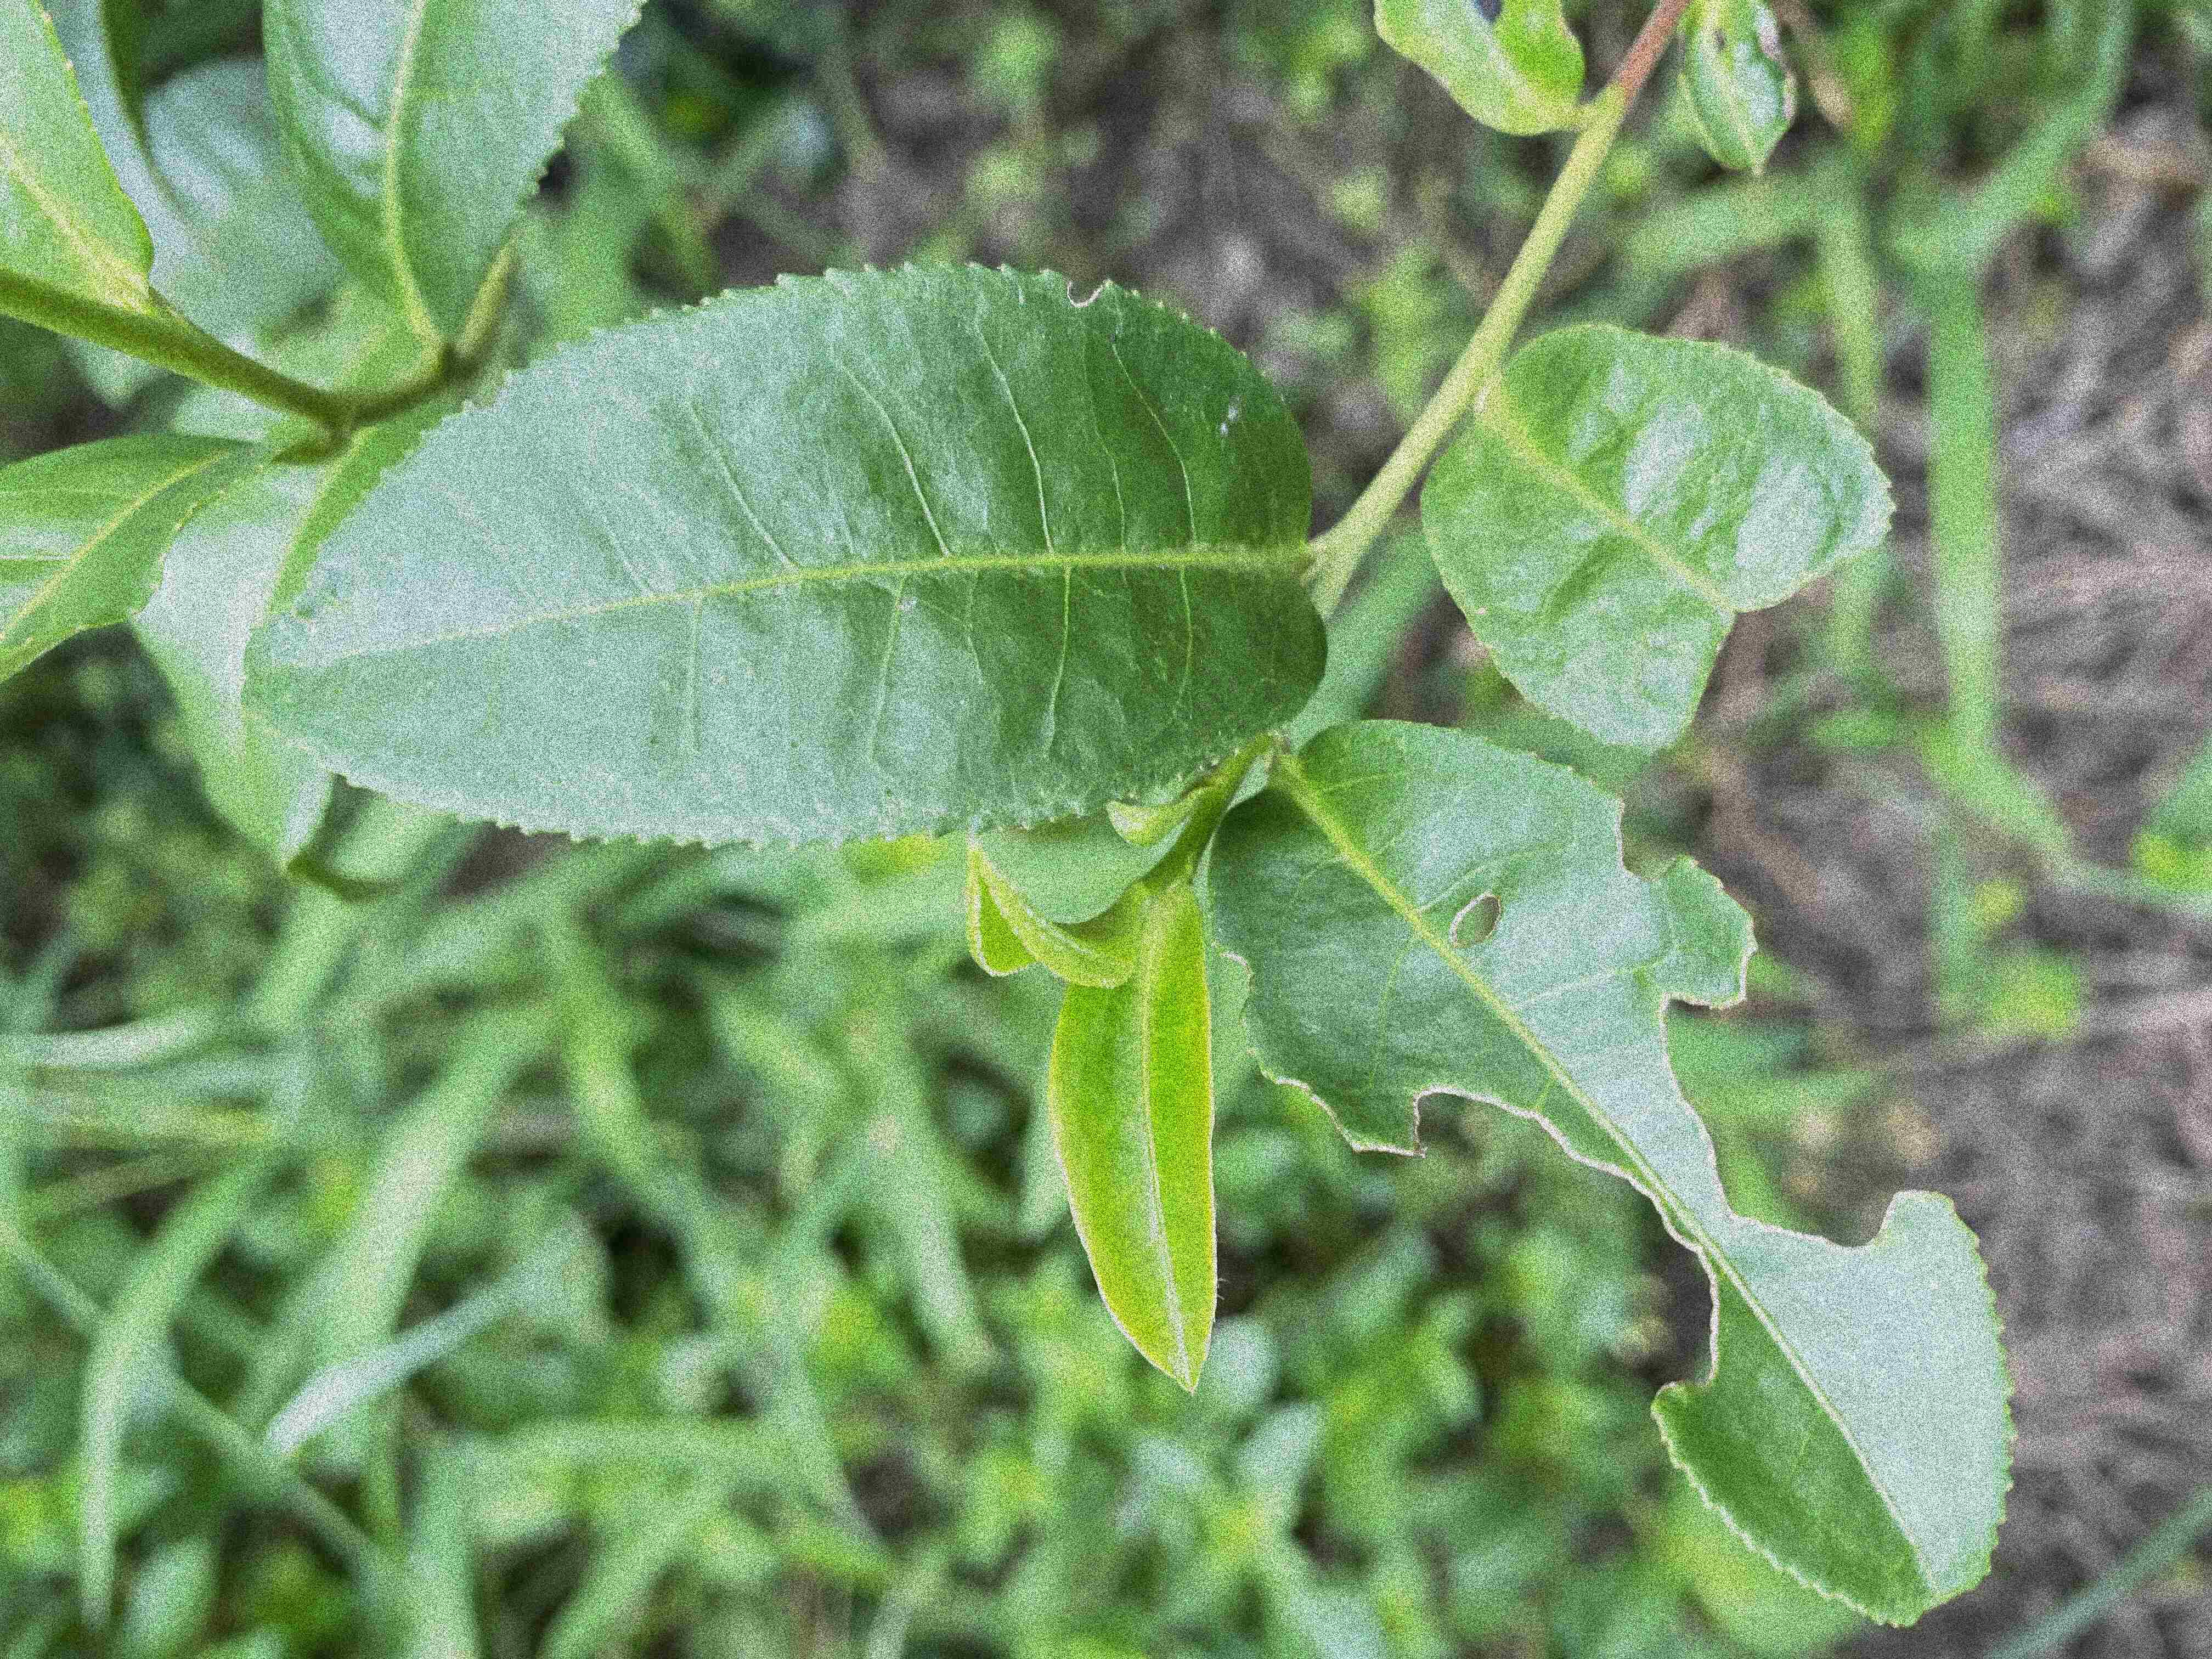chihuo_high: (1207, 718, 2019, 1631), (1416, 322, 1898, 760)
chihuo_low: (242, 260, 1329, 852)
healthy: (1043, 884, 1223, 1394)
